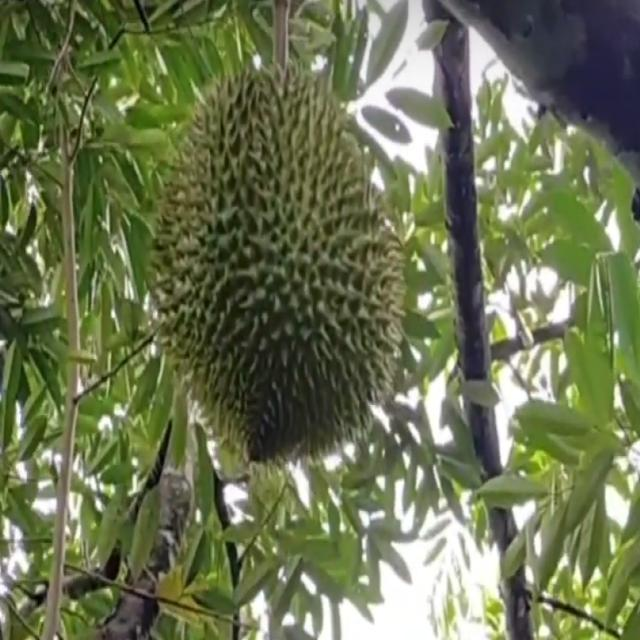immature: (148, 59, 407, 478)
